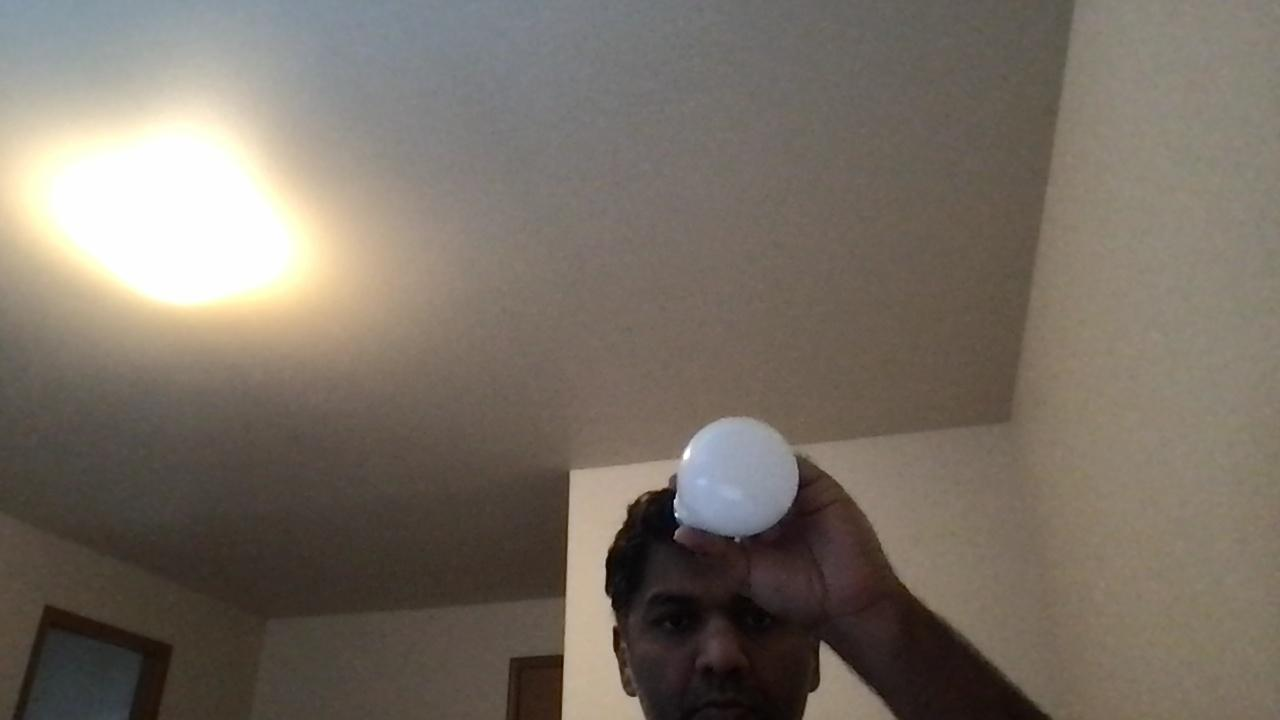Fan: (673, 414, 795, 535)
